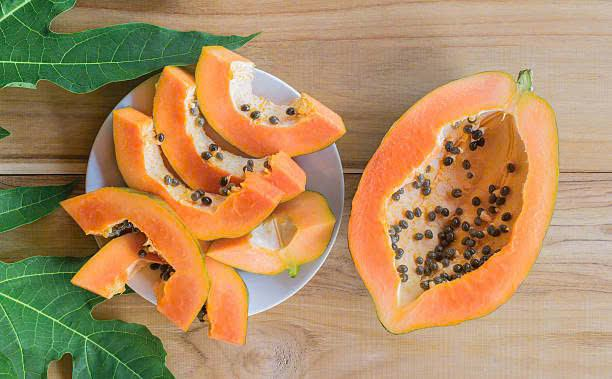papaya: (355, 55, 548, 334), (159, 48, 346, 174), (91, 202, 259, 335), (114, 111, 286, 236)
